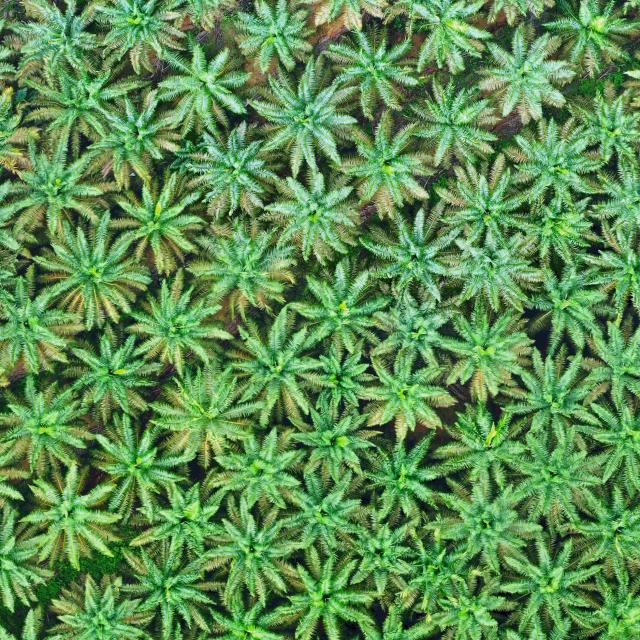Tree: (240, 48, 370, 182), (211, 309, 327, 433), (475, 13, 593, 132), (498, 423, 619, 538), (11, 63, 168, 151), (331, 102, 443, 225), (144, 360, 266, 472), (170, 120, 291, 231), (34, 223, 154, 333), (250, 167, 374, 271), (282, 248, 395, 361), (498, 345, 605, 463), (422, 474, 546, 574), (488, 537, 607, 640), (183, 224, 302, 326), (148, 30, 256, 142), (105, 164, 212, 276), (354, 198, 465, 305), (17, 461, 122, 574), (276, 386, 386, 493), (423, 147, 537, 250), (50, 328, 165, 430), (494, 106, 610, 207), (0, 0, 123, 95), (384, 516, 493, 622), (123, 274, 231, 378), (260, 545, 377, 640), (419, 402, 532, 500), (72, 92, 186, 188), (84, 413, 190, 516), (203, 498, 306, 604), (418, 225, 542, 313), (0, 140, 107, 240), (116, 541, 222, 640), (351, 424, 450, 529), (0, 373, 94, 479), (514, 256, 612, 356), (398, 76, 502, 170), (523, 0, 640, 83), (270, 465, 368, 564), (0, 272, 88, 380), (438, 302, 534, 401), (324, 21, 418, 121), (202, 427, 308, 515), (559, 478, 640, 588), (504, 188, 609, 272), (374, 288, 469, 376), (338, 500, 424, 596), (360, 352, 457, 436), (130, 477, 224, 558), (562, 72, 640, 168), (88, 0, 189, 73), (46, 573, 154, 640), (573, 388, 640, 496), (289, 334, 381, 411), (567, 318, 640, 414), (581, 224, 640, 337), (405, 0, 493, 75), (0, 498, 55, 618), (426, 572, 522, 640), (231, 0, 317, 74), (191, 584, 298, 640), (587, 150, 640, 259), (334, 597, 457, 640), (573, 572, 640, 640), (490, 608, 603, 640), (0, 616, 74, 640)
